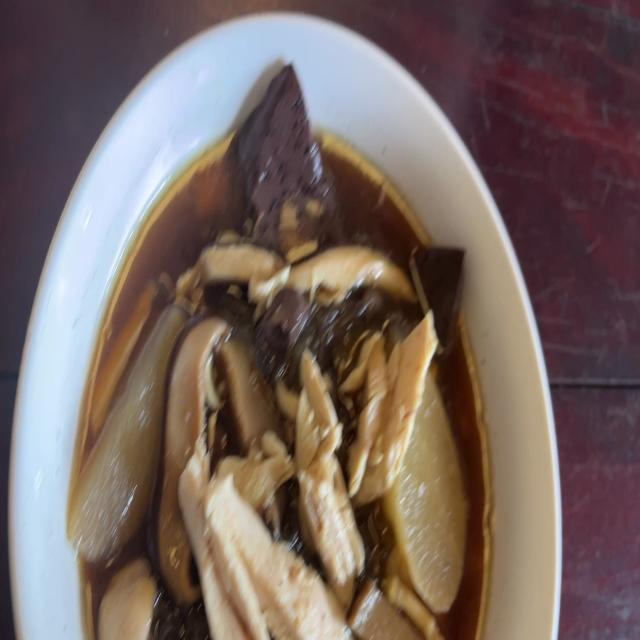noodle: (231, 68, 333, 246), (415, 242, 473, 338), (266, 287, 305, 350)
